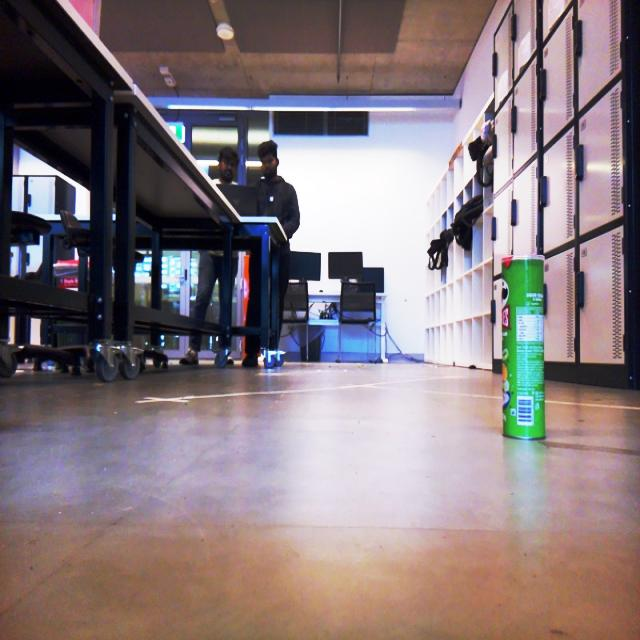greenpringles: (490, 227, 565, 463)
